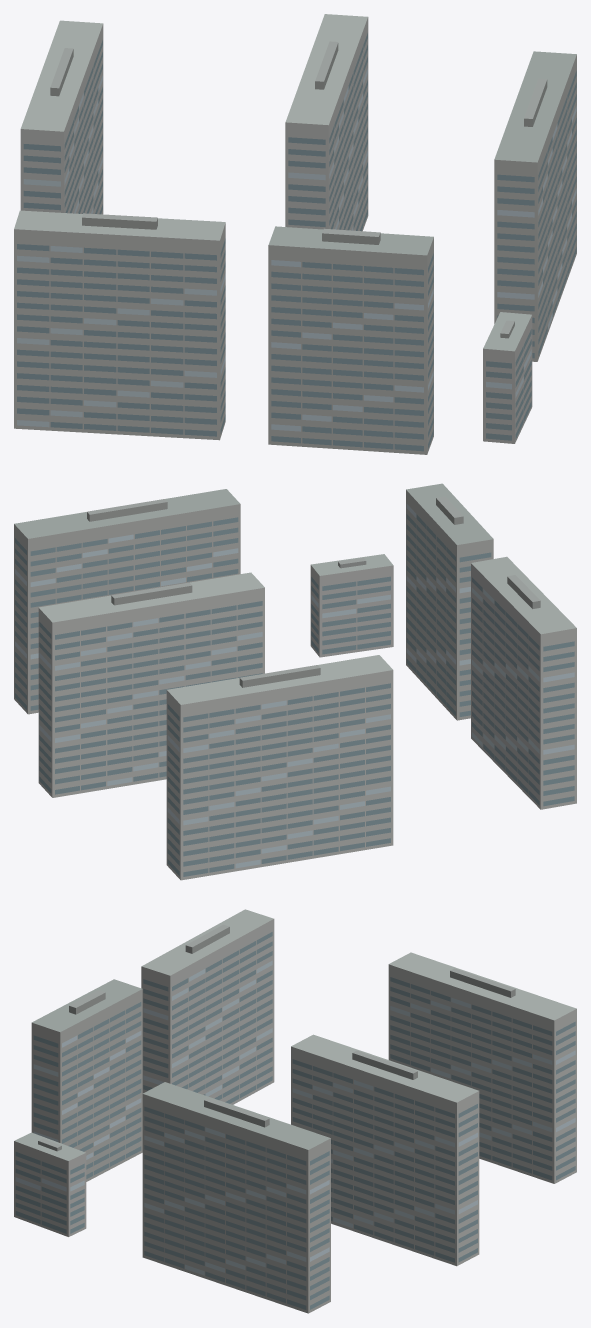
The model's file is apt-a15704028.glb.
The picture shows the model from 3 angles, top to bottom: view 1: azimuth 30°, elevation 25°; view 2: azimuth 150°, elevation 25°; view 3: azimuth 270°, elevation 25°; orthographic projection. The views are drawn at different scales.
Visible parts, largest first — view 1: apt-a15704028; view 2: apt-a15704028; view 3: apt-a15704028.
Part boxes in pixels (x1=…): apt-a15704028: x1=14, y1=14, x2=576, y2=454; apt-a15704028: x1=14, y1=483, x2=576, y2=880; apt-a15704028: x1=14, y1=909, x2=576, y2=1313.
Bounding box in the file's own units: 188 × 62 × 186.
